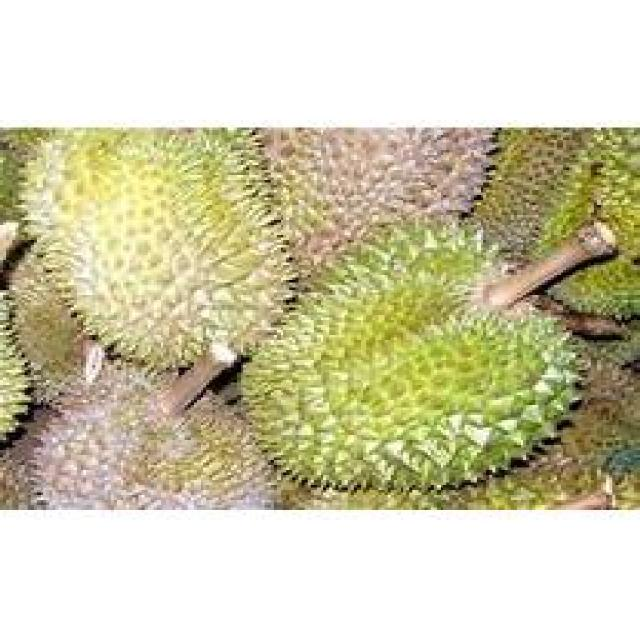fruit: (228, 225, 572, 513), (9, 122, 308, 400), (458, 128, 634, 292)
